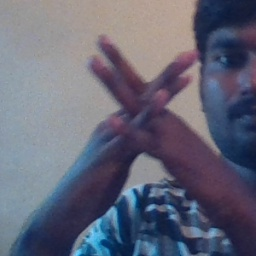W: (70, 27, 214, 184)
